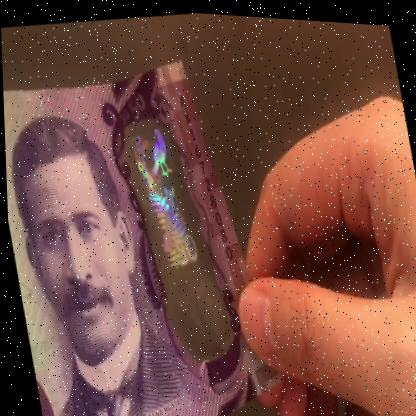50F: (123, 115, 216, 347)
